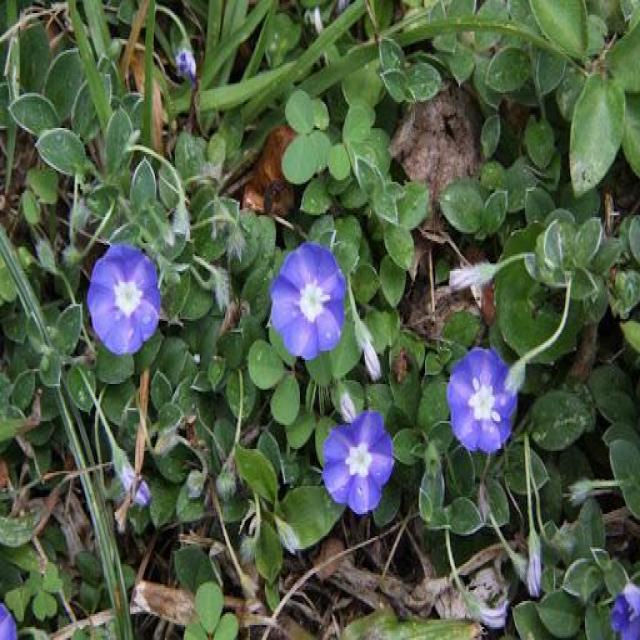organic waste: (266, 242, 352, 363), (84, 242, 167, 361), (319, 406, 400, 522), (443, 338, 521, 454)
